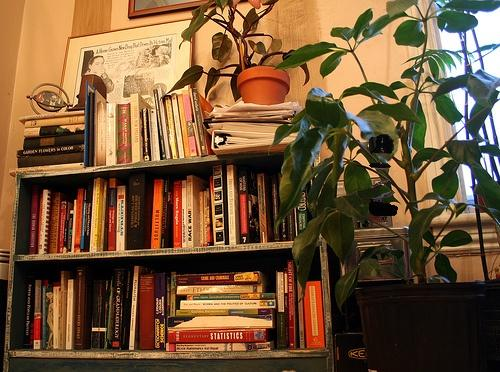tampered: (370, 135, 398, 216)
